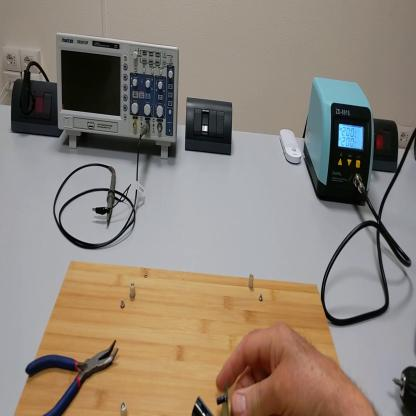electric screwdriver: (394, 365, 415, 413)
hand: (216, 329, 354, 415)
high voltage board: (192, 381, 230, 416)
oscilloscope: (54, 33, 181, 165)
pliers: (25, 337, 119, 414)
socket: (9, 82, 64, 135), (373, 116, 402, 176)
welder station: (309, 79, 376, 205)
working area: (17, 258, 346, 415)
